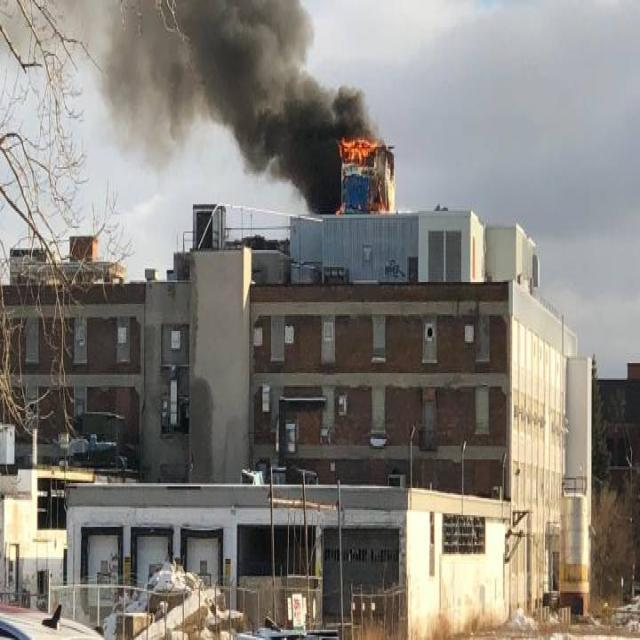Smoke: (0, 0, 386, 214)
